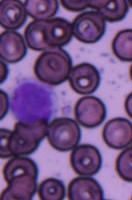L: (9, 76, 58, 125)
